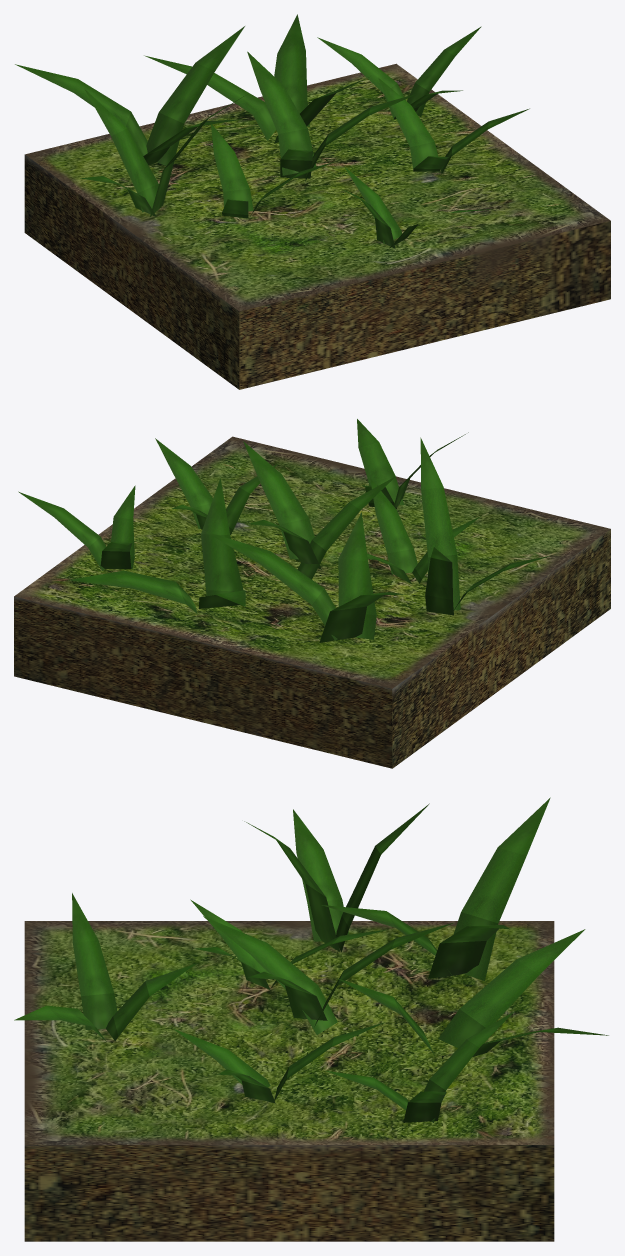
File: FloorAndPlants.glb
The picture shows the model from 3 angles, top to bottom: view 1: azimuth 30°, elevation 25°; view 2: azimuth 150°, elevation 25°; view 3: azimuth 270°, elevation 25°; orthographic projection. The views are drawn at different scales.
Visible parts, largest first — view 1: SolidFloor; view 2: SolidFloor; view 3: SolidFloor.
Part boxes in pixels (<box>): SolidFloor: <box>15,14,610,389</box>; SolidFloor: <box>14,419,610,768</box>; SolidFloor: <box>14,797,608,1241</box>.
Size of the model in its own units: 2.5 by 1.07 by 2.25.
1 material, 1 textured.
